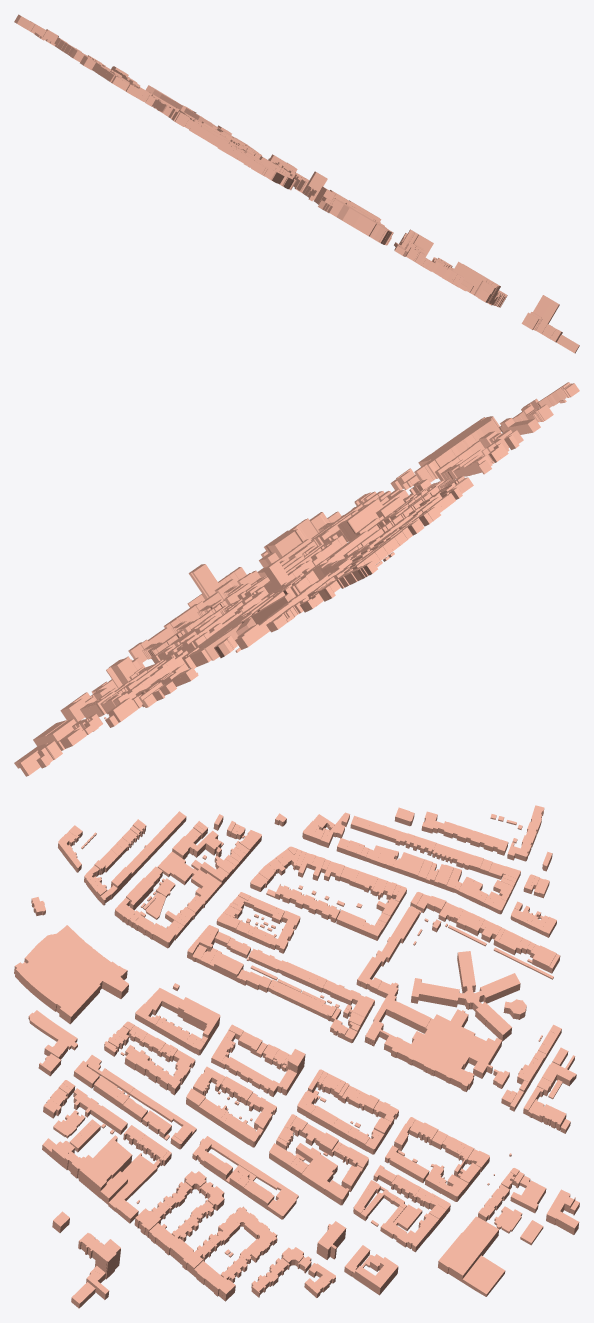
3 views of the same model, one above another, from view 1: azimuth 30°, elevation 25°; view 2: azimuth 150°, elevation 25°; view 3: azimuth 270°, elevation 25° (orthographic). The views are drawn at different scales.
Bounding box in the file's own units: 538 × 398 × 648.
